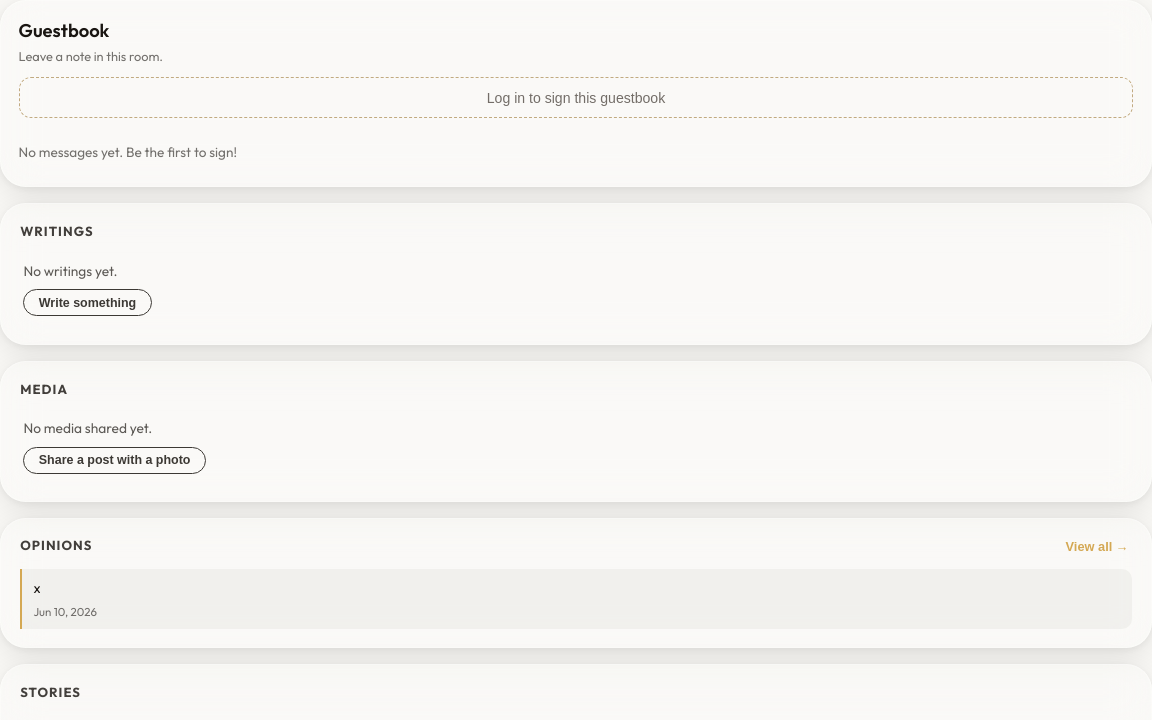
Test: ProfileLayoutRenderer (V3B real previews) › opens the modal from the block's 'View all' button (own profile)
Click the button "View all →" at (1097, 546), box left=1062, top=537, right=1132, bottom=555
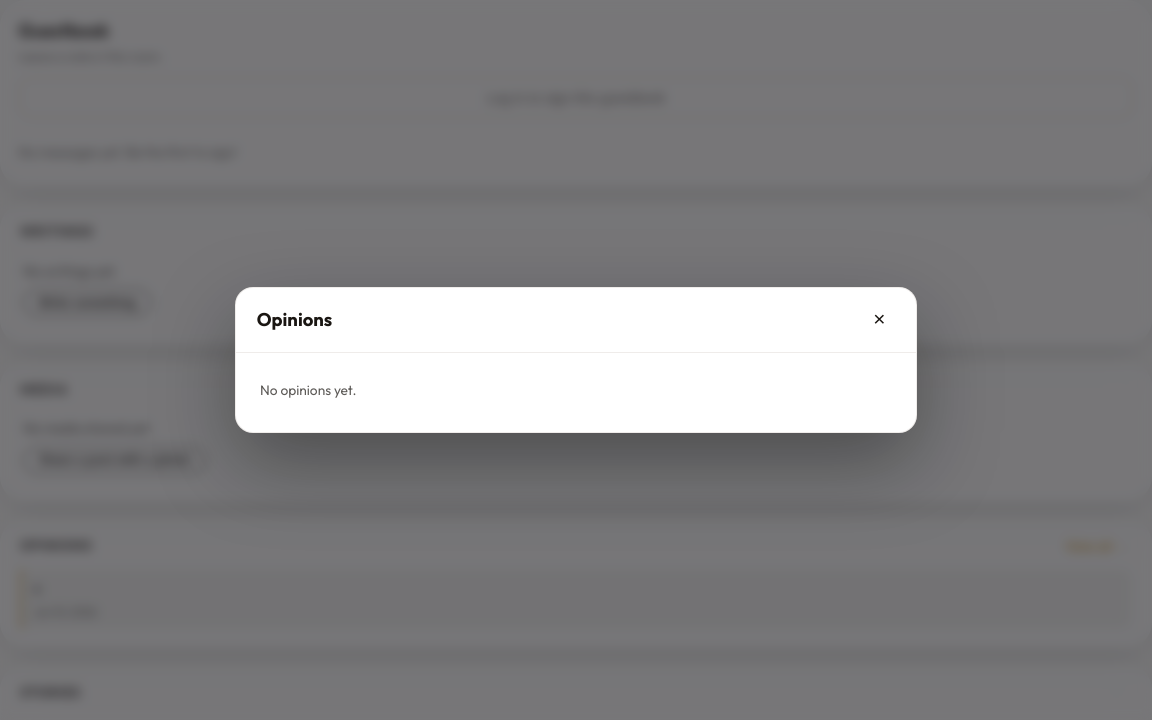
Expected: the button named "Close" is shown, left=863, top=304, right=895, bottom=336
Expected: the heading "Opinions" is shown, left=257, top=306, right=332, bottom=333
